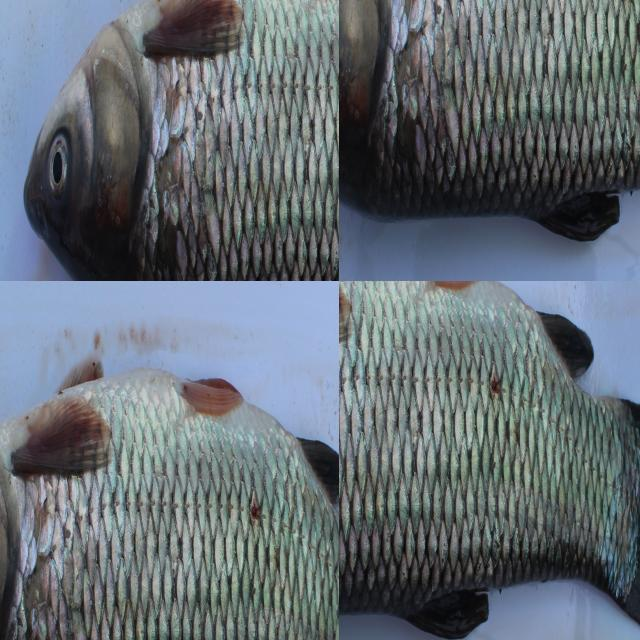fish: (339, 281, 640, 640)
